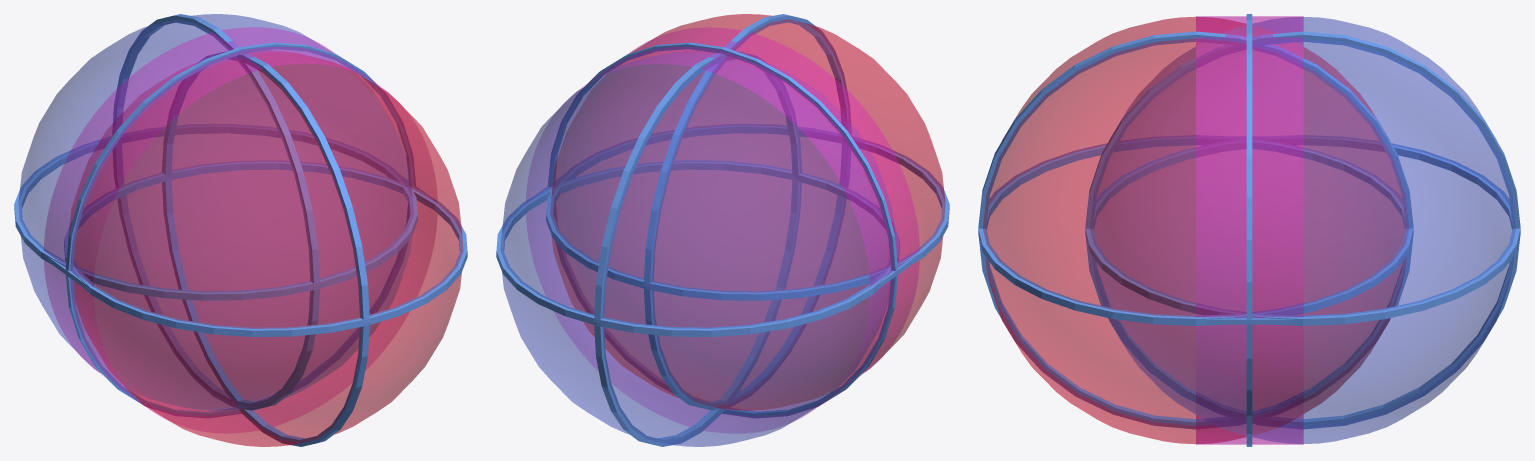
The model's file is 头部-后脑勺挤出.glb.
3 views of the same model, side by side, from view 1: azimuth 30°, elevation 25°; view 2: azimuth 150°, elevation 25°; view 3: azimuth 270°, elevation 25° (orthographic). The views are drawn at different scales.
Parts seen in each view (by area): view 1: Sphere, Sphere.001, Sphere.018, Sphere.011, Sphere.003, Sphere.008, Sphere.004, Sphere.009; view 2: Sphere.001, Sphere, Sphere.018, Sphere.008, Sphere.004, Sphere.011, Sphere.003, Sphere.009; view 3: Sphere, Sphere.001, Sphere.018, Sphere.008, Sphere.011, Sphere.004, Sphere.003, Sphere.009, Sphere.006.
Part boxes in pixels (box(x1,y1,x2,y2)): Sphere: box(69, 50, 463, 446); Sphere.001: box(18, 14, 413, 410); Sphere.018: box(44, 27, 402, 420); Sphere.011: box(162, 51, 369, 446); Sphere.003: box(64, 160, 467, 336); Sphere.008: box(113, 14, 320, 410); Sphere.004: box(14, 124, 417, 300); Sphere.009: box(65, 42, 415, 417); Sphere.001: box(500, 50, 894, 446); Sphere: box(550, 14, 945, 410); Sphere.018: box(560, 27, 919, 421); Sphere.008: box(594, 51, 801, 446); Sphere.004: box(496, 160, 899, 336); Sphere.011: box(643, 14, 850, 410); Sphere.003: box(546, 124, 949, 300); Sphere.009: box(548, 42, 898, 417); Sphere: box(983, 16, 1408, 444); Sphere.001: box(1090, 17, 1515, 443); Sphere.018: box(1196, 16, 1303, 444); Sphere.008: box(1085, 31, 1520, 428); Sphere.011: box(978, 31, 1413, 429); Sphere.004: box(1085, 135, 1520, 325); Sphere.003: box(978, 135, 1413, 325); Sphere.009: box(1246, 14, 1252, 446); Sphere.006: box(1206, 317, 1292, 324).
Size of what is drawn, in the model's own units: 2.04 by 2.04 by 2.54.
